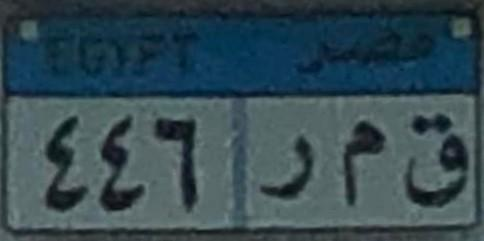4: (36, 110, 90, 217), (97, 105, 147, 215)
6: (153, 106, 208, 211)
meem: (330, 116, 387, 209)
qaaf: (393, 105, 471, 212)
raa: (255, 129, 316, 209)
